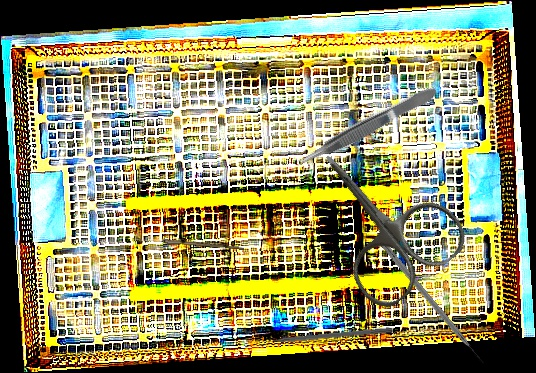Hook Surgical: (373, 235, 486, 367)
Iris Scissors: (280, 117, 476, 317)
Pusher: (253, 325, 394, 346)
Surgical Spoon: (133, 237, 245, 250)
Tissue Forceps: (291, 83, 441, 172)
